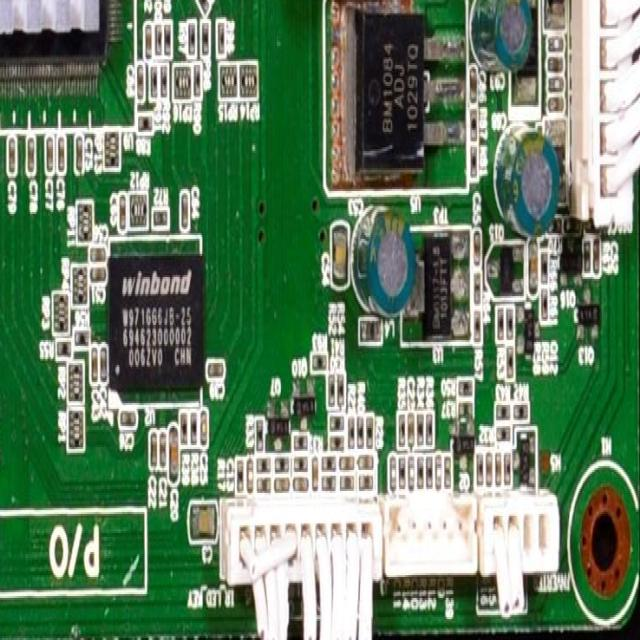IC: (332, 0, 472, 181), (0, 0, 131, 122), (106, 258, 202, 401), (412, 228, 470, 344)
capacitor: (502, 126, 554, 239), (353, 214, 410, 315), (472, 0, 526, 63), (188, 502, 218, 542), (116, 401, 138, 431), (167, 428, 180, 476), (24, 140, 38, 178), (199, 405, 210, 449), (149, 428, 159, 476), (545, 52, 564, 77), (544, 94, 564, 116), (180, 191, 190, 232), (246, 454, 256, 494), (290, 474, 310, 494), (45, 138, 56, 174), (545, 36, 565, 55), (99, 344, 107, 391), (442, 457, 453, 491), (468, 67, 479, 100), (89, 346, 101, 376), (158, 434, 167, 474), (475, 452, 485, 488), (338, 476, 356, 496), (58, 134, 66, 178), (91, 264, 107, 286), (75, 132, 84, 171), (144, 25, 153, 63), (544, 80, 564, 97), (388, 457, 398, 490), (494, 455, 503, 491), (8, 138, 18, 170), (88, 244, 108, 260), (137, 65, 145, 104), (591, 239, 600, 272), (119, 191, 126, 233), (406, 457, 414, 493), (408, 418, 416, 453), (486, 453, 494, 488), (311, 449, 318, 488), (273, 476, 289, 493), (360, 451, 373, 471), (358, 476, 374, 491), (208, 359, 225, 373), (436, 456, 442, 491), (340, 459, 355, 471)
resistor: (423, 414, 437, 450), (253, 418, 266, 456), (471, 227, 483, 268), (581, 239, 594, 276), (217, 17, 227, 65), (512, 399, 530, 425), (152, 206, 172, 229), (468, 143, 481, 177), (492, 424, 514, 444), (162, 18, 172, 60), (200, 18, 210, 60), (192, 65, 202, 107), (54, 340, 74, 361), (503, 453, 514, 490), (540, 248, 550, 288), (494, 400, 512, 422), (468, 109, 479, 144), (150, 67, 160, 105), (541, 286, 551, 324), (310, 353, 328, 374), (187, 19, 196, 60), (345, 420, 358, 448), (255, 456, 274, 475), (235, 458, 245, 494), (72, 325, 89, 346), (178, 414, 188, 448), (329, 430, 346, 450), (292, 432, 309, 452), (320, 472, 337, 492), (458, 400, 473, 422), (160, 63, 168, 103), (398, 457, 407, 492), (354, 416, 364, 446), (366, 416, 376, 446), (416, 416, 426, 446), (398, 415, 407, 448), (337, 372, 345, 408), (139, 118, 154, 137), (293, 452, 307, 472), (424, 456, 432, 491), (456, 376, 471, 394), (415, 456, 424, 486), (472, 271, 480, 303), (329, 372, 337, 404), (320, 454, 336, 470), (256, 476, 270, 494), (189, 415, 197, 446), (273, 457, 289, 472), (156, 23, 162, 56), (330, 417, 344, 428), (198, 0, 208, 11)
transistor: (489, 239, 525, 297), (516, 428, 537, 492), (575, 294, 597, 342), (290, 382, 317, 420), (266, 409, 291, 441), (450, 426, 476, 452)
